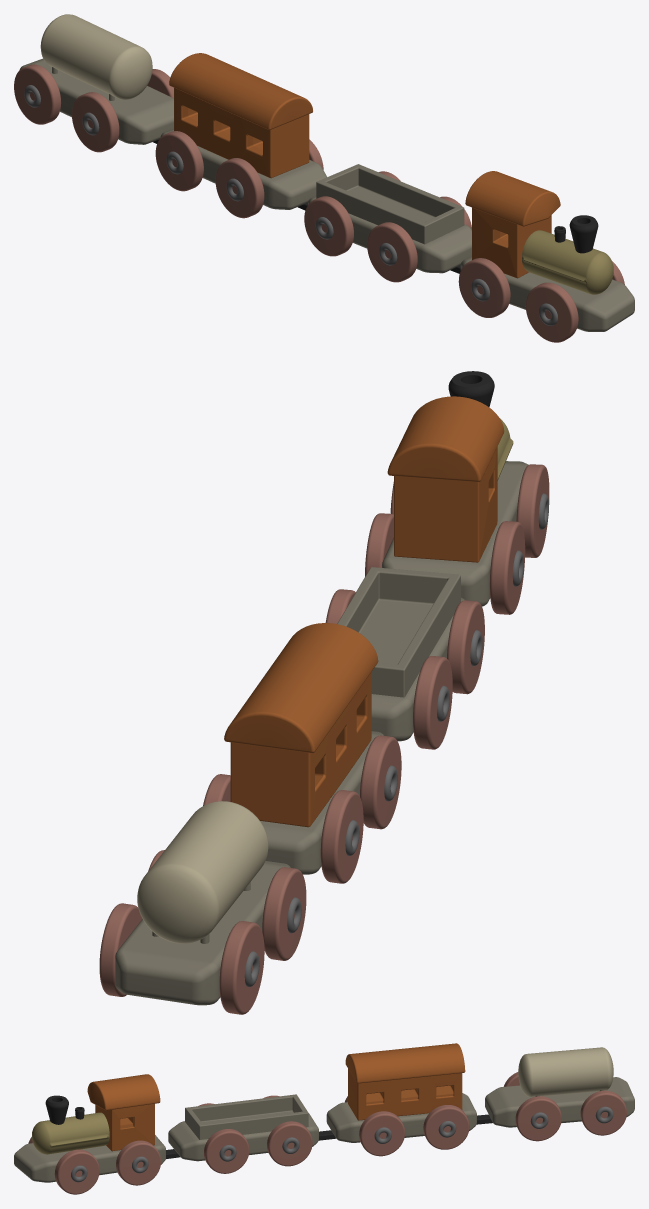
Rendered from TrainModel.fbx.
3 renders of one model, top to bottom at view 1: azimuth 30°, elevation 25°; view 2: azimuth 150°, elevation 25°; view 3: azimuth 270°, elevation 25°, orthographic. The views are drawn at different scales.
Parts seen in each view (by area): view 1: Base (×4), WheelFront1 (×4), WheelBack1 (×4), Carriage, TankContainer, CarriageRoof, Engine, DriverCompartmentRoof, DriverCompartment, BigExhaust, WheelFront; view 2: Base (×4), TankContainer, CarriageRoof, WheelBack1 (×4), WheelFront1 (×4), Carriage, DriverCompartment, DriverCompartmentRoof, WheelBack (×2), BigExhaust; view 3: Base (×4), WheelBack (×4), WheelFront (×4), TankContainer, Carriage, CarriageRoof, Engine, DriverCompartmentRoof, DriverCompartment, BigExhaust.
Boxes of the visible parts, x1,y1,x2,y2 form: Base (×4): (19, 58, 634, 331); WheelFront1 (×4): (72, 92, 578, 342); WheelBack1 (×4): (14, 64, 510, 317); Carriage: (174, 88, 309, 178); TankContainer: (40, 14, 152, 99); CarriageRoof: (169, 53, 312, 129); Engine: (522, 230, 613, 294); DriverCompartmentRoof: (465, 171, 560, 226); DriverCompartment: (472, 207, 551, 278); BigExhaust: (569, 215, 598, 253); WheelFront: (147, 69, 173, 98); Base (×4): (115, 461, 528, 1005); TankContainer: (137, 801, 268, 943); CarriageRoof: (224, 623, 378, 753); WheelBack1 (×4): (219, 521, 525, 1014); WheelFront1 (×4): (262, 464, 549, 960); Carriage: (230, 672, 371, 827); DriverCompartment: (394, 446, 497, 562); DriverCompartmentRoof: (387, 396, 504, 481); WheelBack (×2): (99, 513, 393, 996); BigExhaust: (448, 371, 494, 407); Base (×4): (14, 1077, 634, 1182); WheelBack (×4): (116, 1090, 626, 1185); WheelFront (×4): (54, 1096, 561, 1194); TankContainer: (518, 1047, 613, 1097); Carriage: (348, 1069, 462, 1120); CarriageRoof: (345, 1043, 465, 1083); Engine: (32, 1112, 109, 1154); DriverCompartmentRoof: (87, 1074, 160, 1110); DriverCompartment: (95, 1103, 154, 1151); BigExhaust: (45, 1095, 68, 1124).
Bounding box in the file's own units: 4.6 × 2.1 × 12.86.
